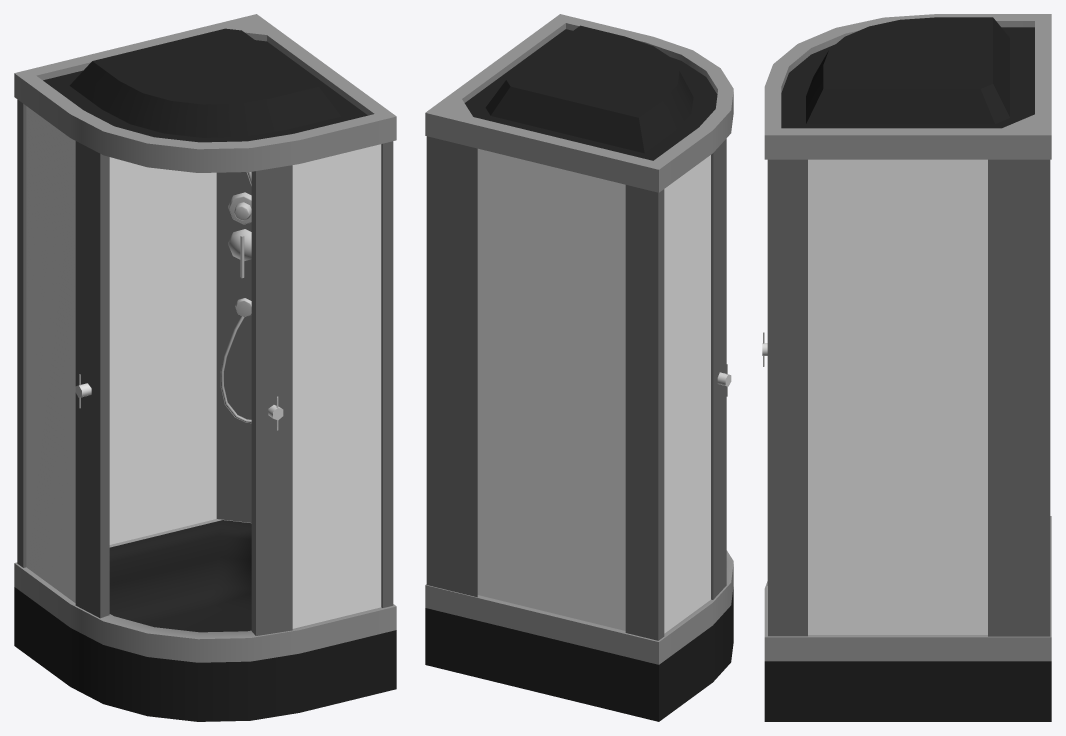
File: bathroom_037.fbx
3 views of the same model, side by side, from view 1: azimuth 30°, elevation 25°; view 2: azimuth 150°, elevation 25°; view 3: azimuth 270°, elevation 25° (orthographic). The views are drawn at different scales.
Visible parts, largest first — view 1: bathroom_037; view 2: bathroom_037; view 3: bathroom_037.
Part boxes in pixels (x1,y1,x2,y2): bathroom_037: (14, 14, 396, 721); bathroom_037: (425, 14, 733, 721); bathroom_037: (762, 14, 1051, 721).
Bounding box in the file's own units: 112 × 111 × 257.
